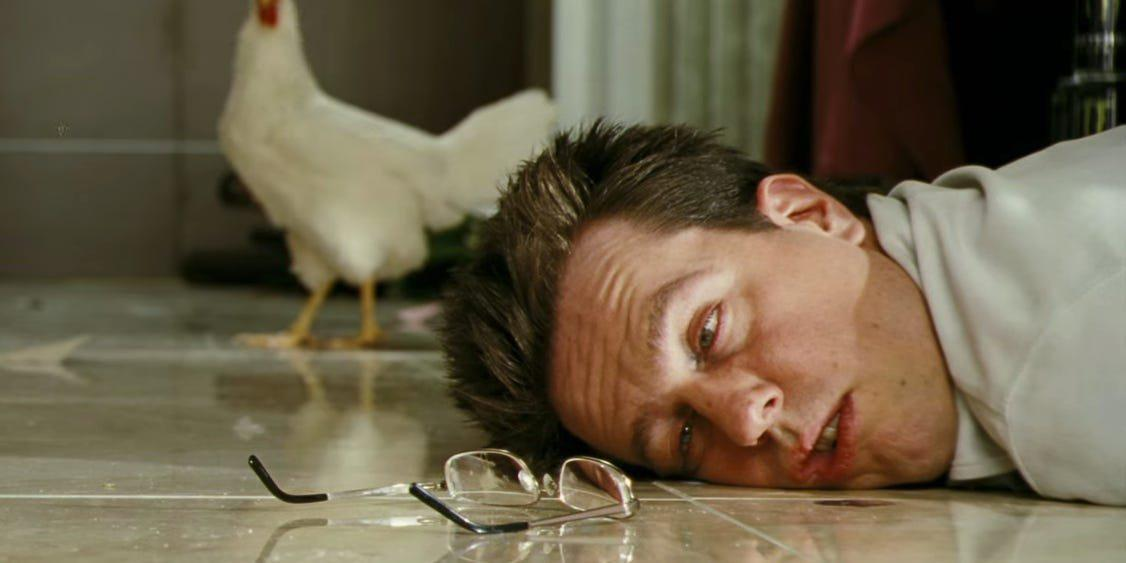Drunk: (558, 234, 931, 488)
